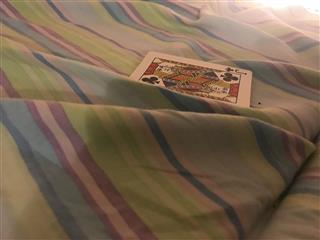JackOfClubs: (128, 50, 253, 107)
